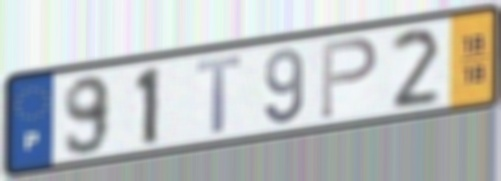1: (132, 62, 164, 149)
2: (387, 25, 444, 112)
9: (60, 72, 113, 156), (262, 45, 307, 127)
P: (318, 34, 381, 122)
T: (193, 52, 244, 138)
